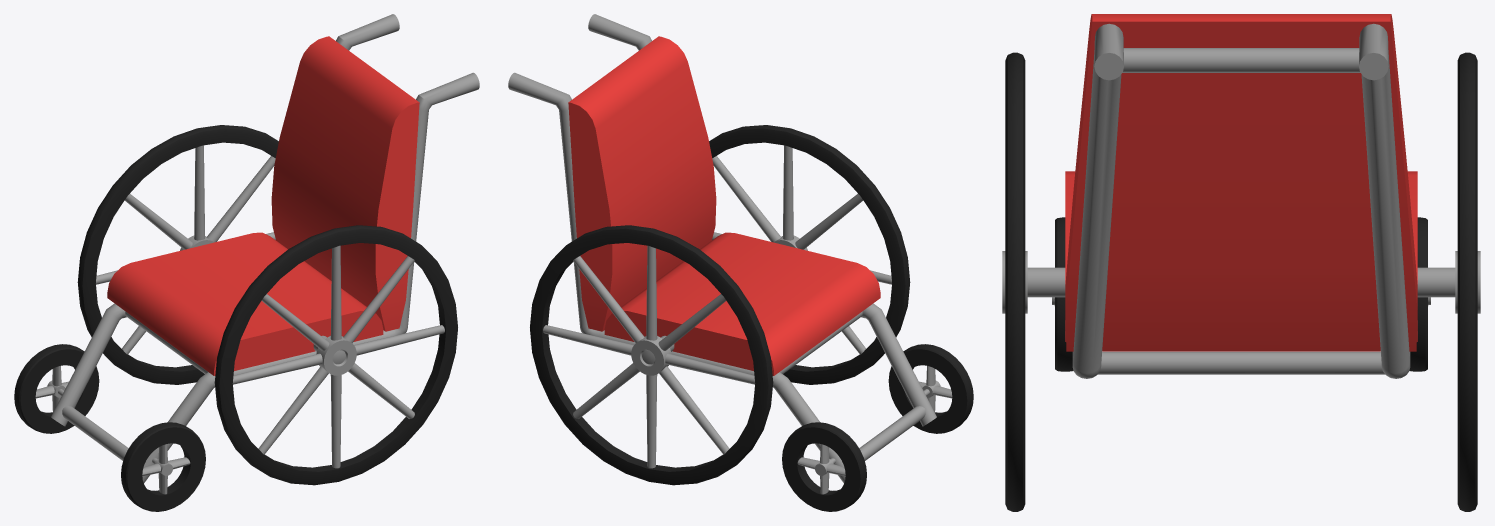
The model's file is manual_wheelchair.glb.
3 views of the same model, side by side, from view 1: azimuth 30°, elevation 25°; view 2: azimuth 150°, elevation 25°; view 3: azimuth 270°, elevation 25° (orthographic). The views are drawn at different scales.
Visible parts, largest first — view 1: Cube.737; view 2: Cube.737; view 3: Cube.737.
Boxes of the visible parts, x1=… form: Cube.737: x1=14, y1=14, x2=479, y2=511; Cube.737: x1=508, y1=14, x2=973, y2=511; Cube.737: x1=1002, y1=14, x2=1480, y2=511.
Size of the model in its own units: 2.19 by 1.98 by 1.5.
Materials: 1 (1 with a texture image).
